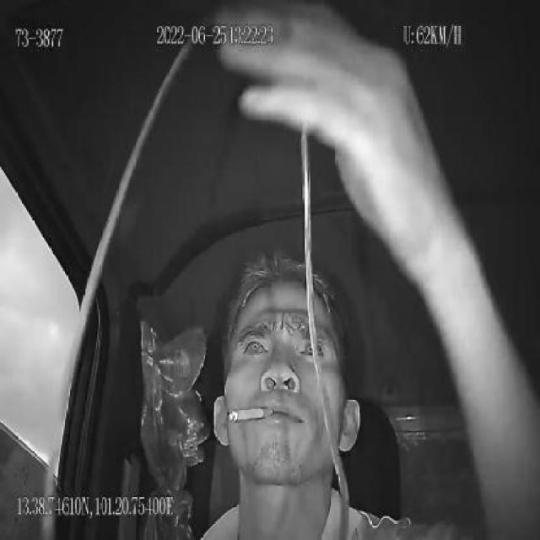smoking: (226, 407, 273, 424)
